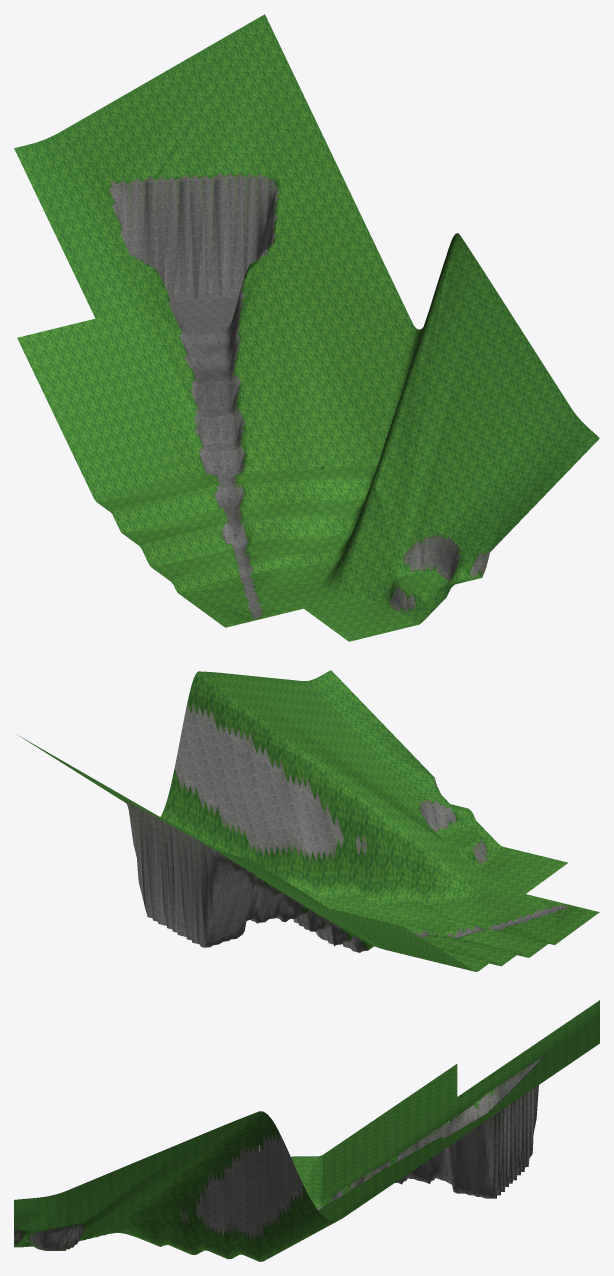
The model's file is payo_land_near_sw_lod2.glb.
The picture shows the model from 3 angles, top to bottom: view 1: azimuth 30°, elevation 25°; view 2: azimuth 150°, elevation 25°; view 3: azimuth 270°, elevation 25°; orthographic projection. The views are drawn at different scales.
Parts seen in each view (by area): view 1: payo_land_near_sw; view 2: payo_land_near_sw; view 3: payo_land_near_sw.
Boxes of the visible parts, x1,y1,x2,y2 form: payo_land_near_sw: (14,14,599,641); payo_land_near_sw: (18,670,599,971); payo_land_near_sw: (14,1000,599,1261).
Bounding box in the file's own units: 126 × 118 × 222.
2 materials, 2 textured.
